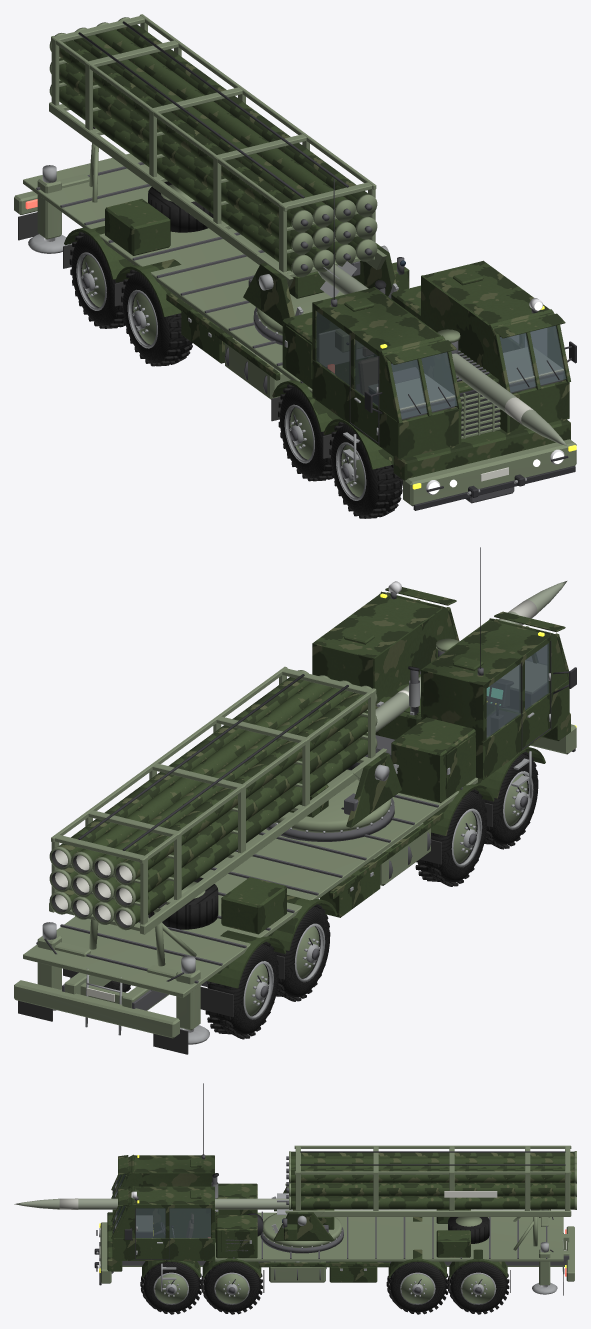
File: smerch.glb
The picture shows the model from 3 angles, top to bottom: view 1: azimuth 30°, elevation 25°; view 2: azimuth 150°, elevation 25°; view 3: azimuth 270°, elevation 25°; orthographic projection. The views are drawn at different scales.
Visible parts, largest first — view 1: SMERCH_body_geo, launcher_pitch_geo, launcher_yaw_geo, wheel_1_geo, wheel_5_geo, rocket_load_geo, wheel_7_geo, wheel_3_geo; view 2: SMERCH_body_geo, launcher_pitch_geo, launcher_yaw_geo, wheel_7_geo, wheel_3_geo, wheel_5_geo, wheel_1_geo, rocket_load_geo; view 3: SMERCH_body_geo, launcher_pitch_geo, wheel_6_geo, wheel_2_geo, wheel_4_geo, launcher_yaw_geo, wheel_0_geo, rocket_load_geo.
Boxes of the visible parts, bbox=[...] form: SMERCH_body_geo: bbox=[14, 126, 576, 510]; launcher_pitch_geo: bbox=[49, 14, 386, 288]; launcher_yaw_geo: bbox=[243, 243, 409, 335]; wheel_1_geo: bbox=[329, 422, 402, 518]; wheel_5_geo: bbox=[121, 269, 192, 366]; rocket_load_geo: bbox=[318, 261, 567, 446]; wheel_7_geo: bbox=[69, 232, 125, 328]; wheel_3_geo: bbox=[278, 384, 333, 481]; SMERCH_body_geo: bbox=[14, 547, 576, 1054]; launcher_pitch_geo: bbox=[49, 666, 386, 934]; launcher_yaw_geo: bbox=[274, 752, 401, 832]; wheel_7_geo: bbox=[205, 941, 278, 1039]; wheel_3_geo: bbox=[415, 789, 487, 886]; wheel_5_geo: bbox=[274, 904, 330, 1001]; wheel_1_geo: bbox=[482, 751, 538, 849]; rocket_load_geo: bbox=[375, 581, 566, 732]; SMERCH_body_geo: bbox=[94, 1083, 574, 1295]; launcher_pitch_geo: bbox=[285, 1145, 576, 1217]; wheel_6_geo: bbox=[447, 1262, 509, 1314]; wheel_2_geo: bbox=[201, 1262, 262, 1314]; wheel_4_geo: bbox=[386, 1262, 448, 1314]; launcher_yaw_geo: bbox=[263, 1187, 341, 1247]; wheel_0_geo: bbox=[140, 1261, 202, 1314]; rocket_load_geo: bbox=[14, 1193, 292, 1214].
Bounding box in the file's own units: 3.72 × 5.44 × 14.85.
26 materials, 3 textured.
